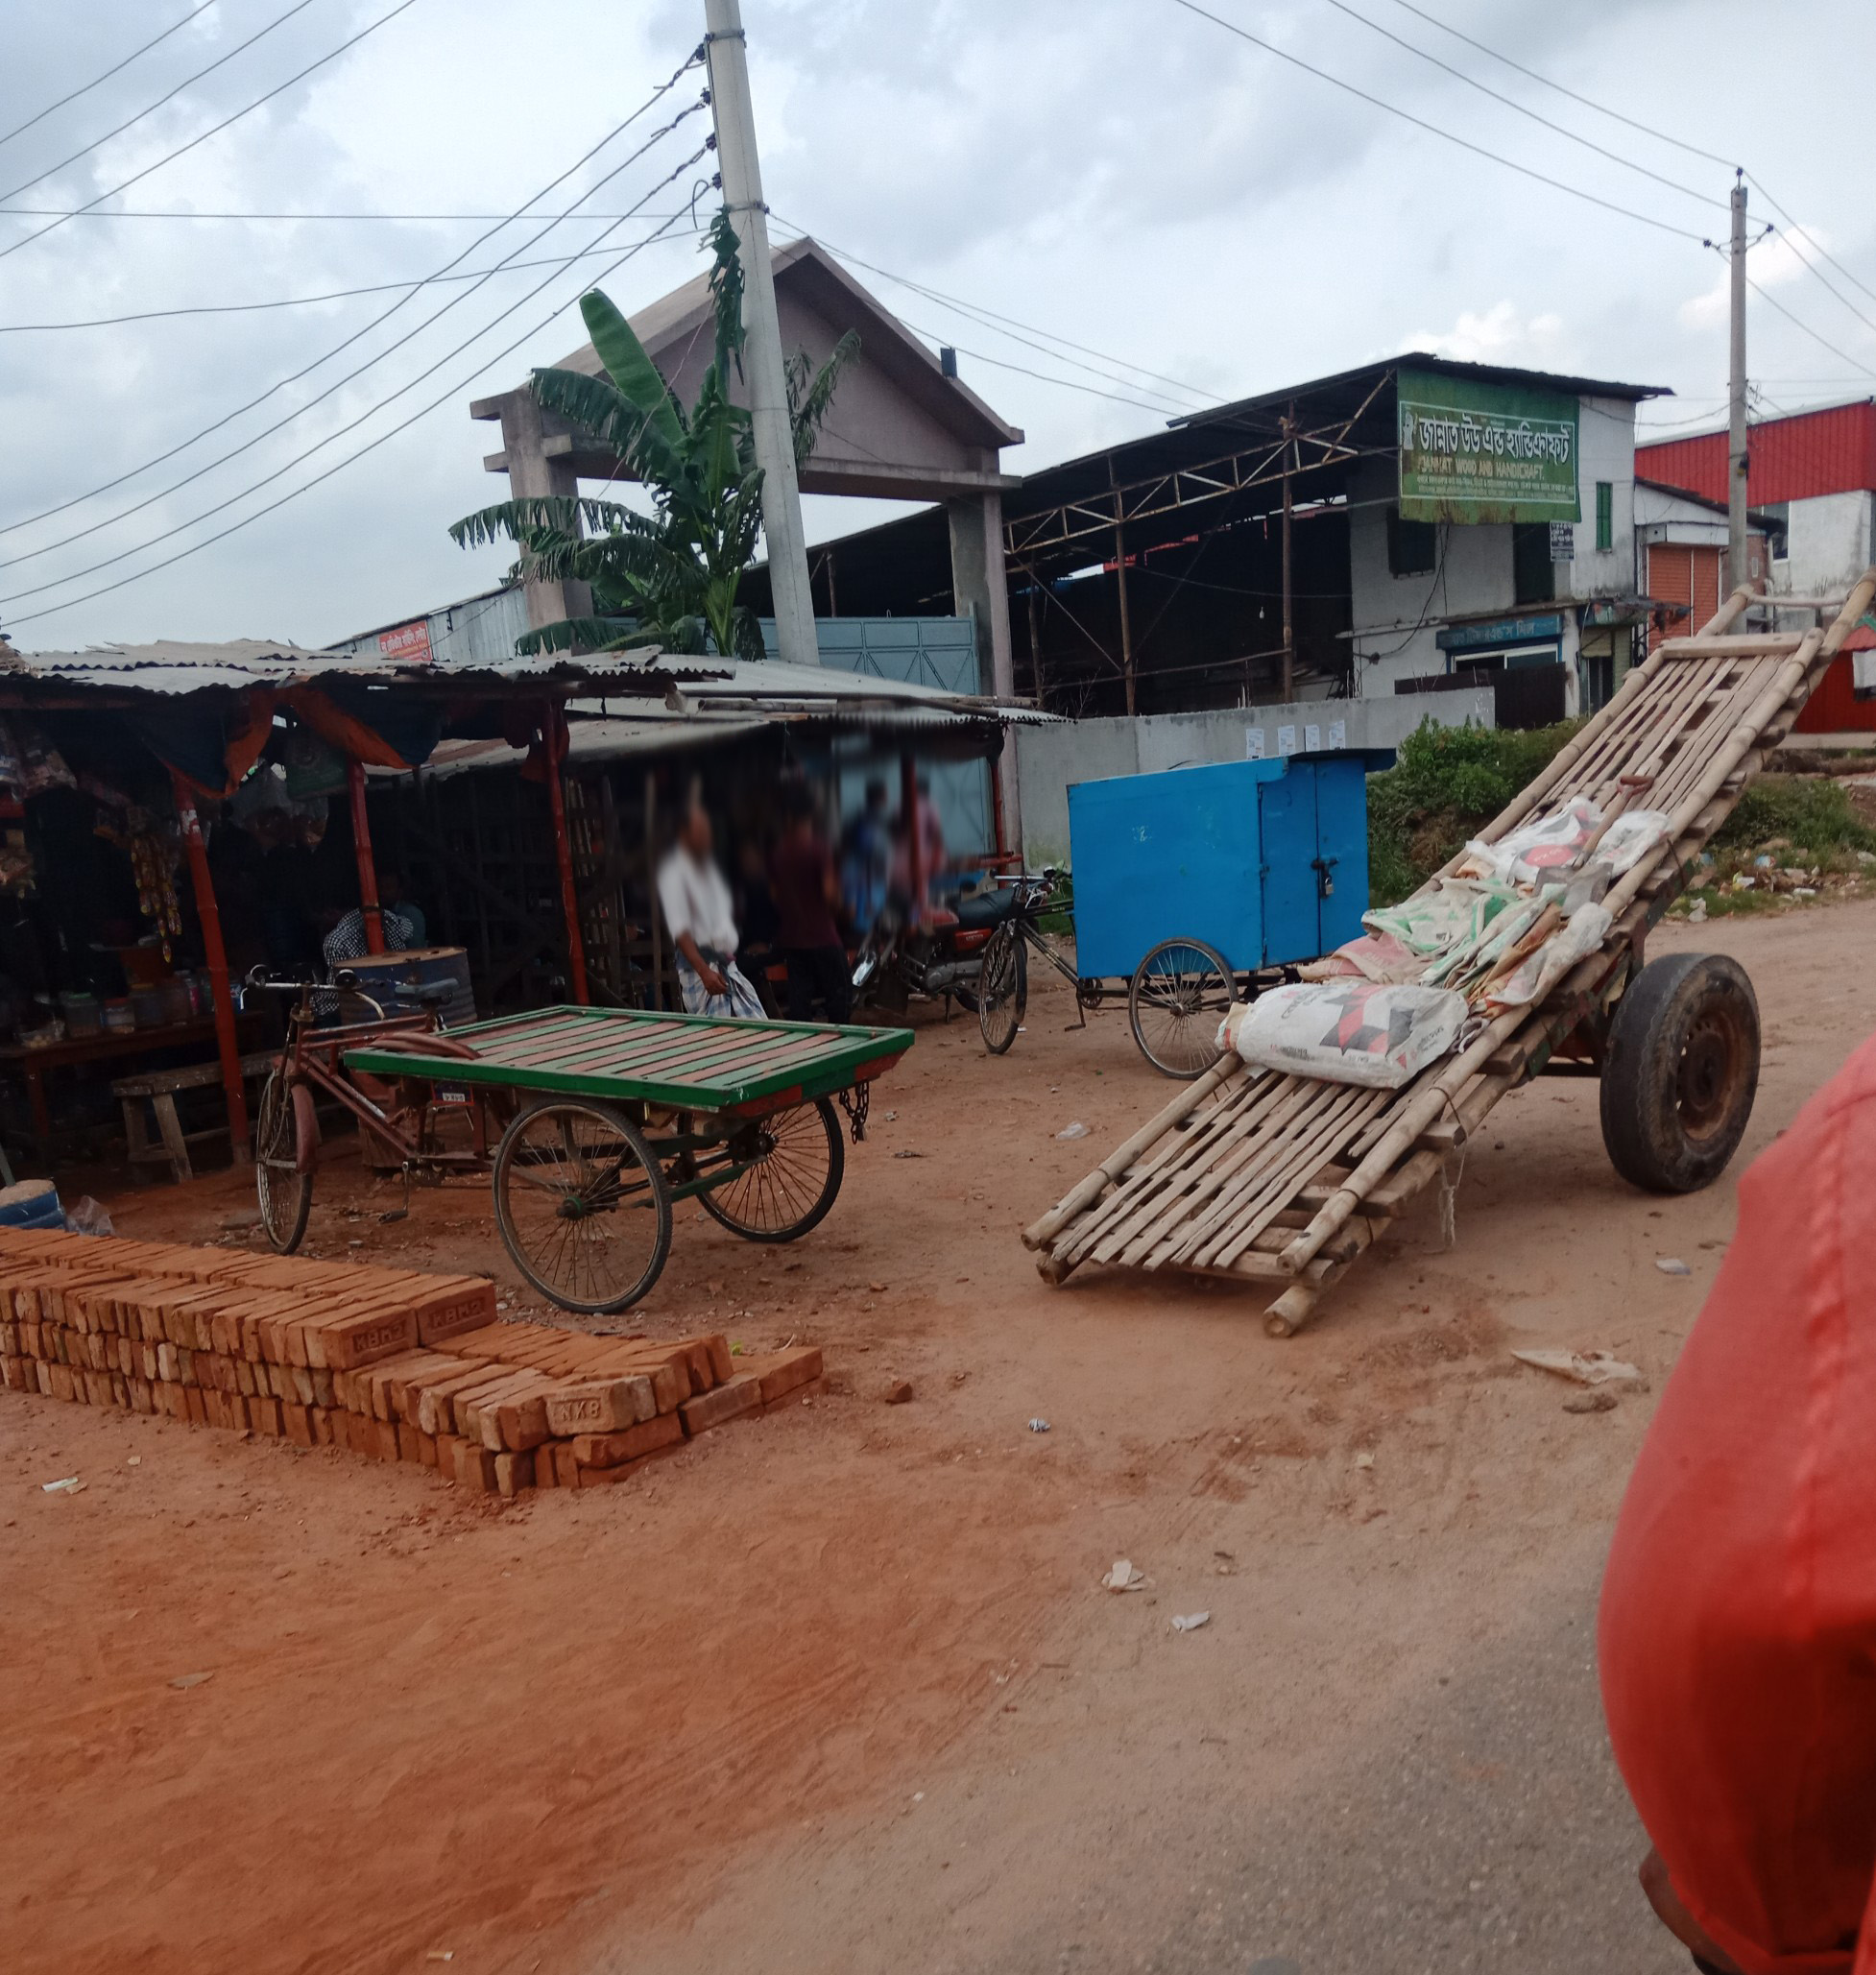van: (220, 954, 919, 1307), (972, 756, 1414, 1072)
wheelbarrow: (1017, 570, 1869, 1347)
